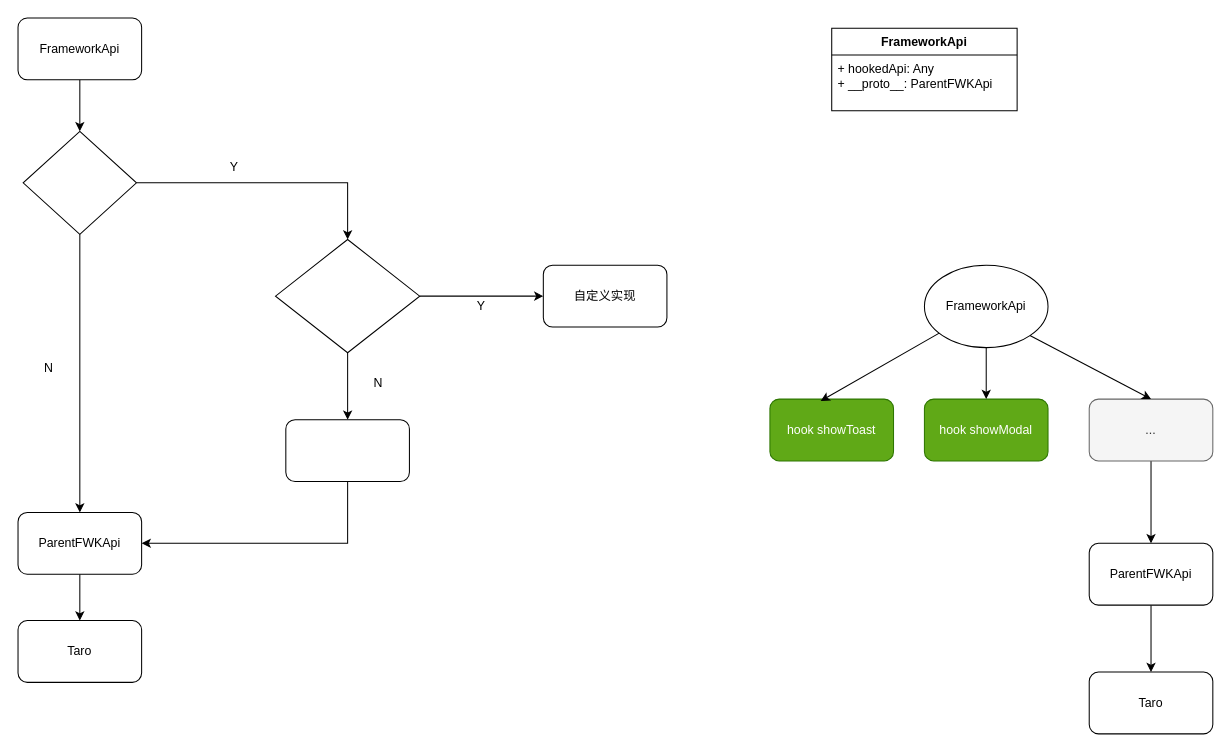
This 1231x752 diagram has some shape labels left out. The shapes that lost their labels are listed below. From the top down, each one's centre as x and y in pixels, then its label:
At (x=79, y=182): "hook？".
At (x=347, y=295): "自定义实现？".
At (x=347, y=450): "统一处理输入、输出".
